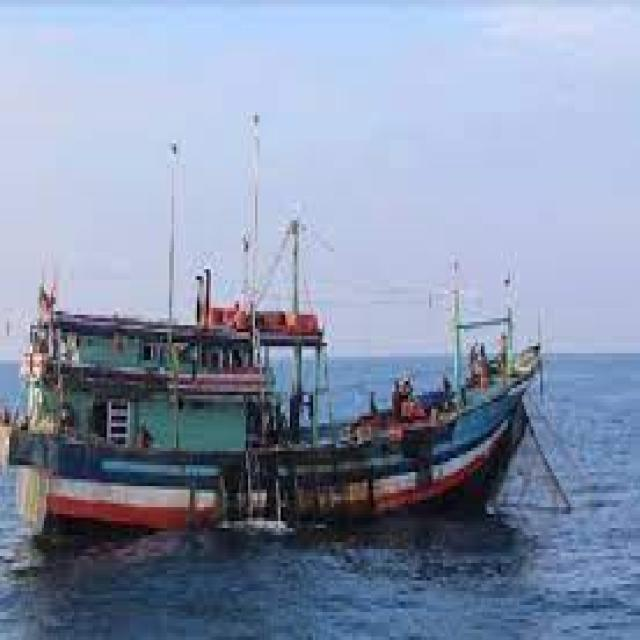Fishing Boat: (0, 103, 625, 524)
